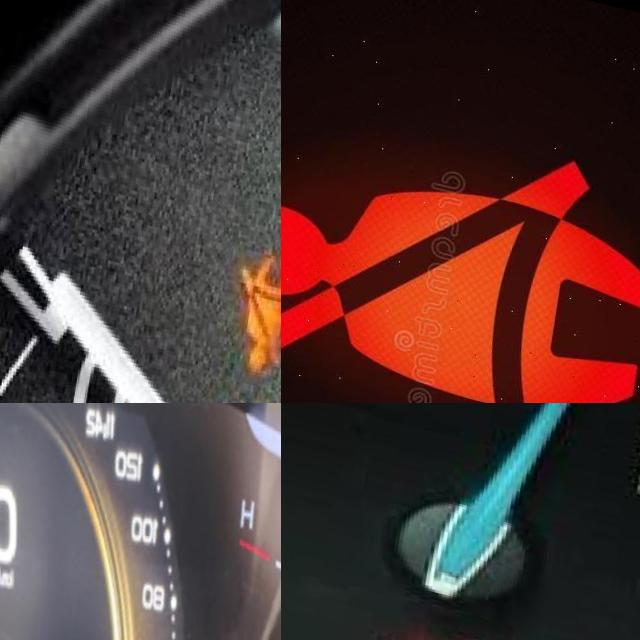Seat Belt: (281, 75, 640, 403), (244, 233, 281, 360), (404, 617, 496, 640)
